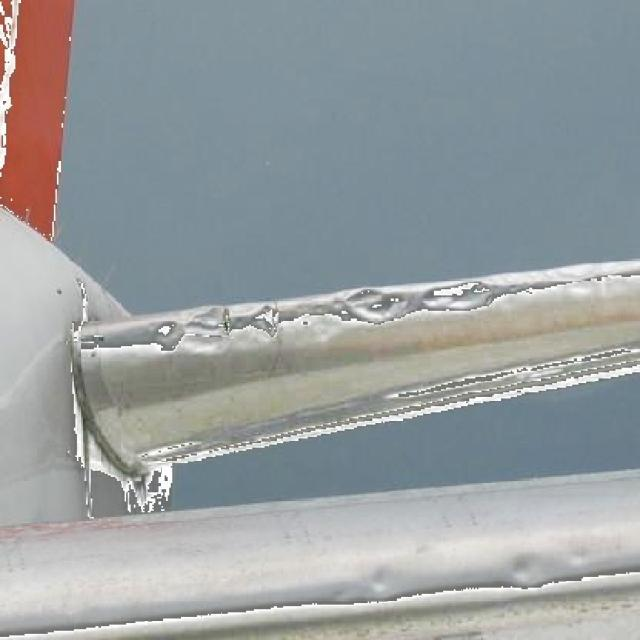dent: (344, 287, 407, 326), (422, 281, 498, 312), (189, 309, 232, 354), (507, 552, 544, 591), (364, 564, 395, 597)
